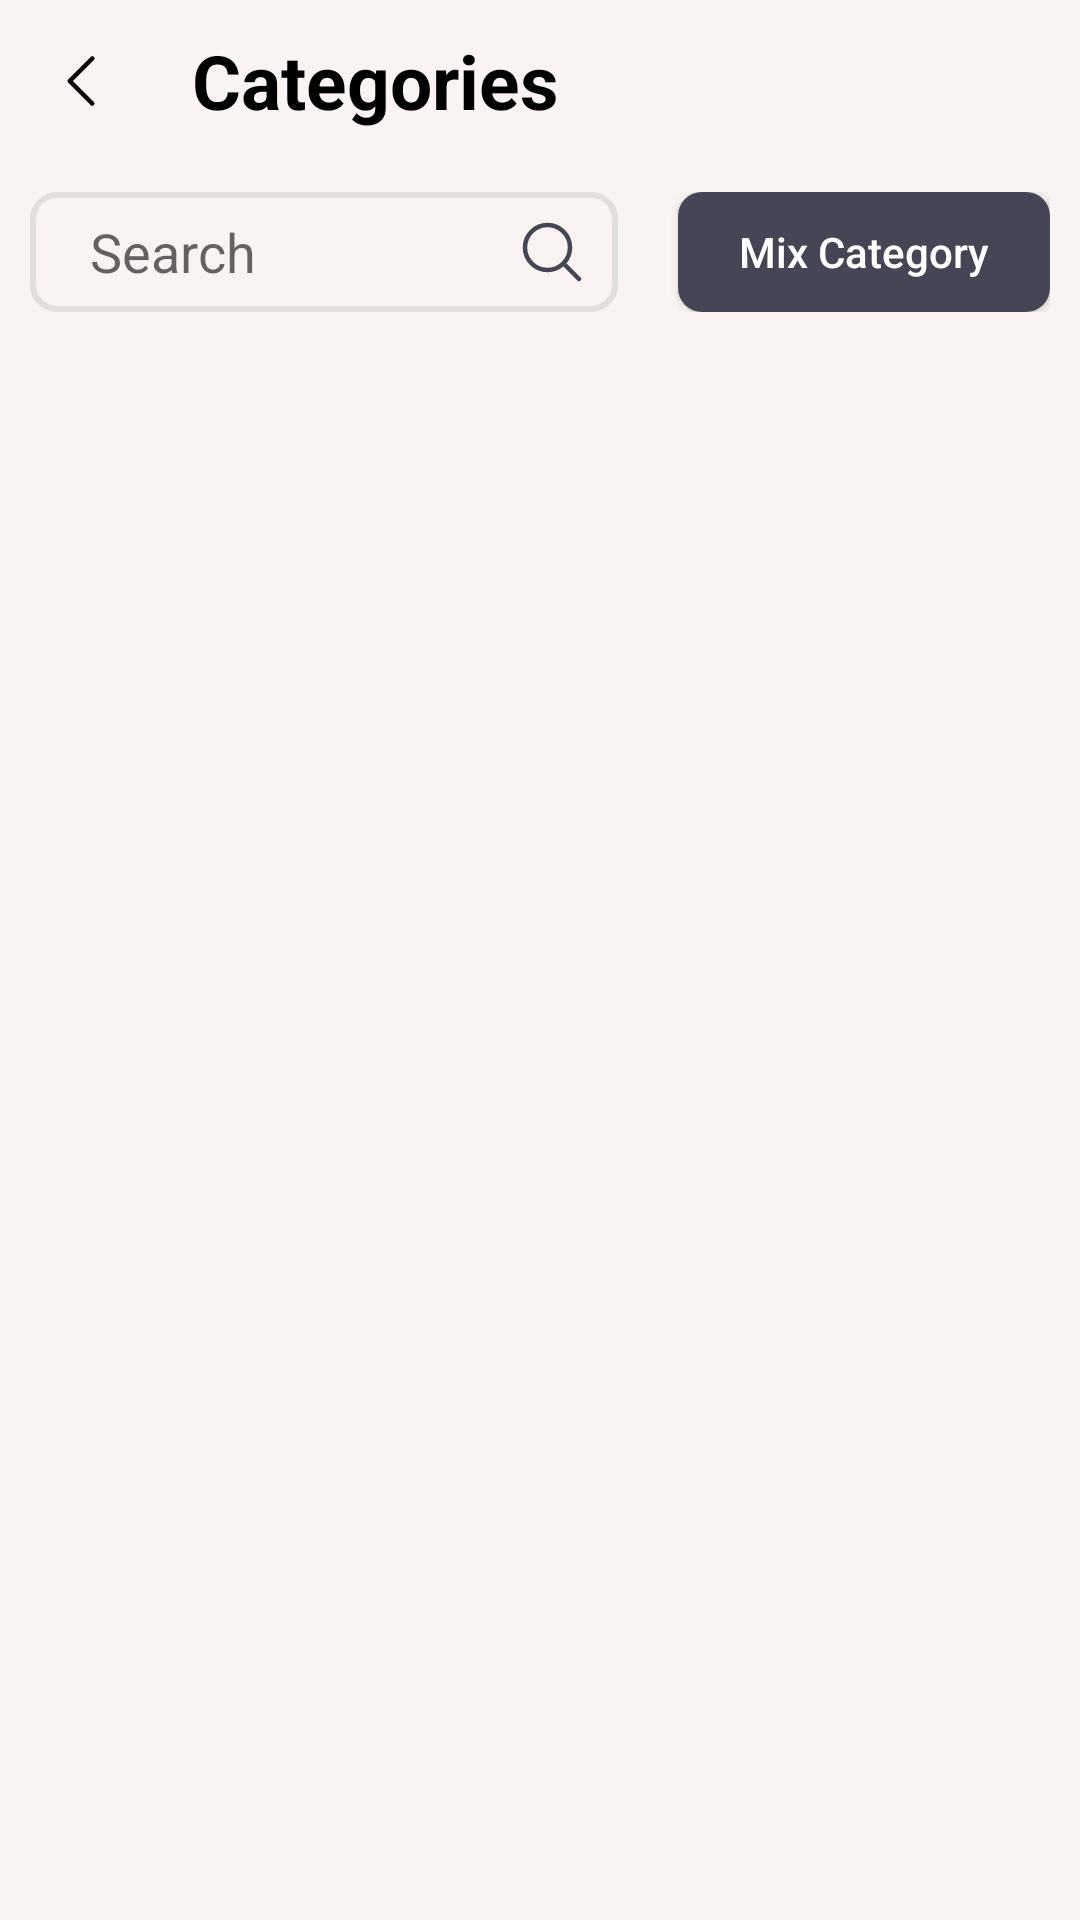

Screen size 1080x1920. Icon name, then its center in pixels as (x=x, y=y):
back: (x=81, y=81)
